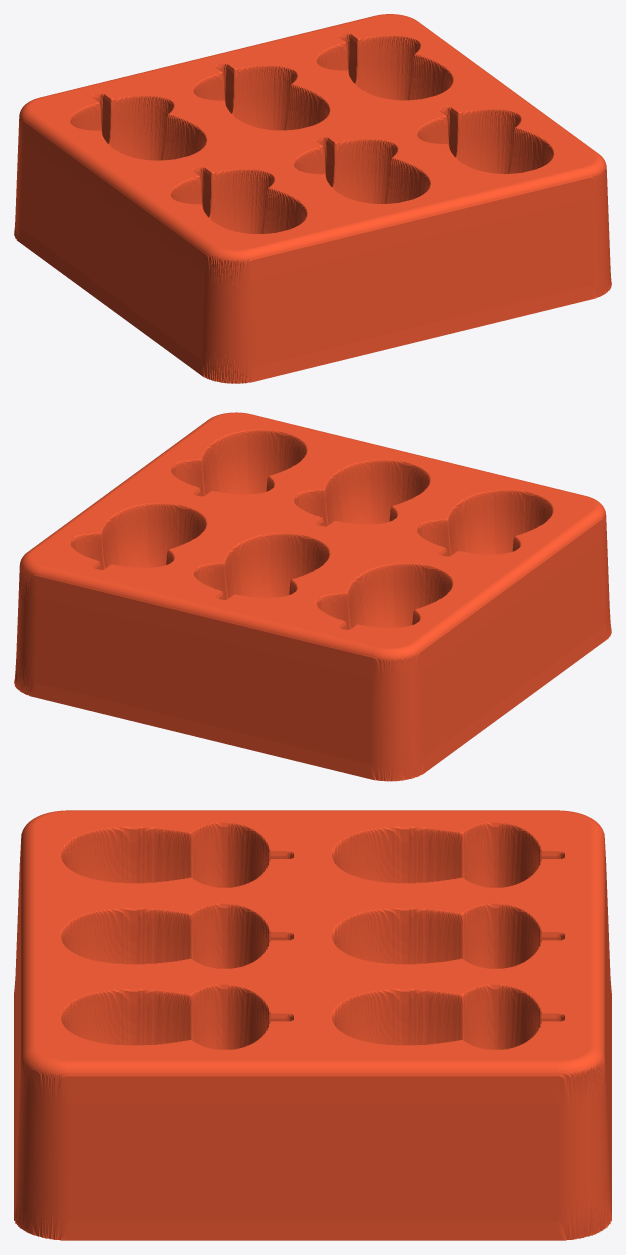
The model's file is mold.glb.
3 views of the same model, one above another, from view 1: azimuth 30°, elevation 25°; view 2: azimuth 150°, elevation 25°; view 3: azimuth 270°, elevation 25° (orthographic). The views are drawn at different scales.
Visible parts, largest first — view 1: geometry_0; view 2: geometry_0; view 3: geometry_0.
Boxes of the visible parts, box(x1,y1,x2,y2) form: geometry_0: box(14, 14, 611, 383); geometry_0: box(14, 412, 611, 781); geometry_0: box(14, 810, 611, 1240).
Size of the model in its own units: 0.1052 by 0.0314 by 0.0996.
